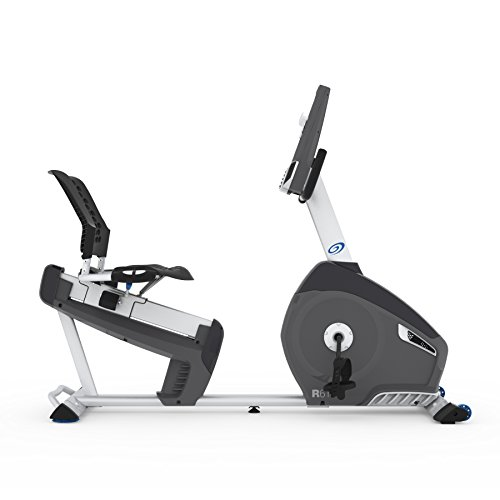gym_bike: (28, 81, 479, 433)
